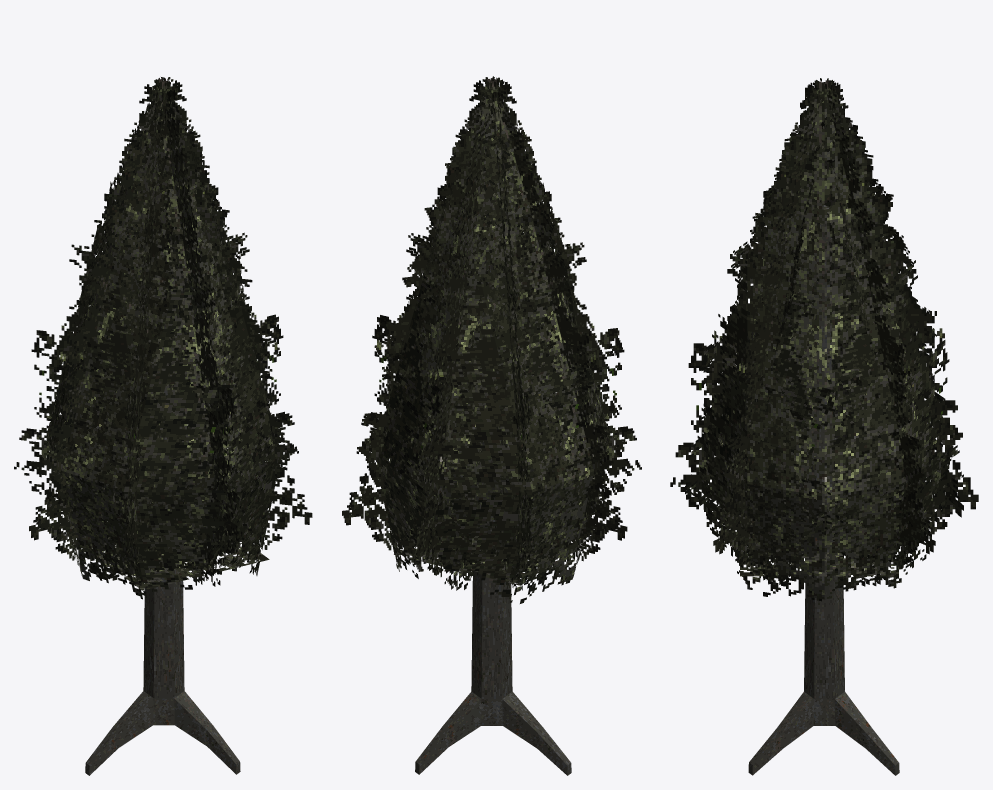
The model's file is tree08_spring.glb.
3 renders of one model, left to right at view 1: azimuth 30°, elevation 25°; view 2: azimuth 150°, elevation 25°; view 3: azimuth 270°, elevation 25°, orthographic.
Visible parts, largest first — view 1: tree08; view 2: tree08; view 3: tree08.
Part boxes in pixels (left/top/right/bottom): tree08: left=14, top=77, right=312, bottom=775; tree08: left=342, top=76, right=641, bottom=775; tree08: left=670, top=78, right=978, bottom=775.
Size of the model in its own units: 4.2 by 10.18 by 4.2.
1 material, 1 textured.
